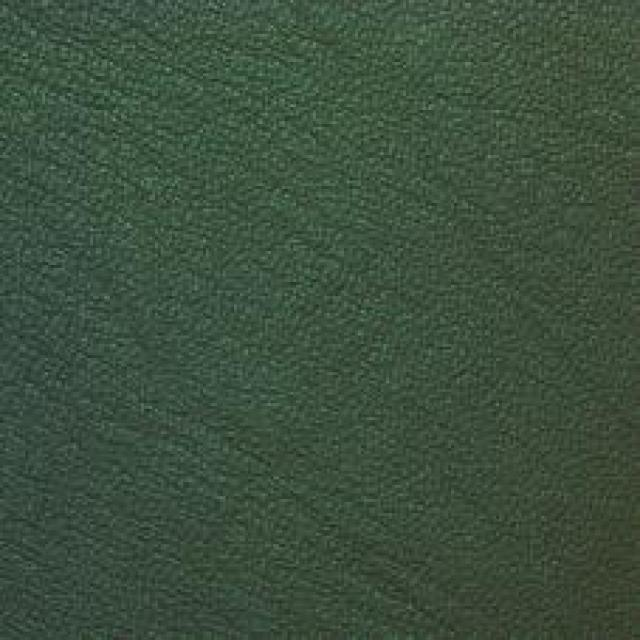Growth Marks: (21, 17, 385, 175), (26, 293, 222, 506)
